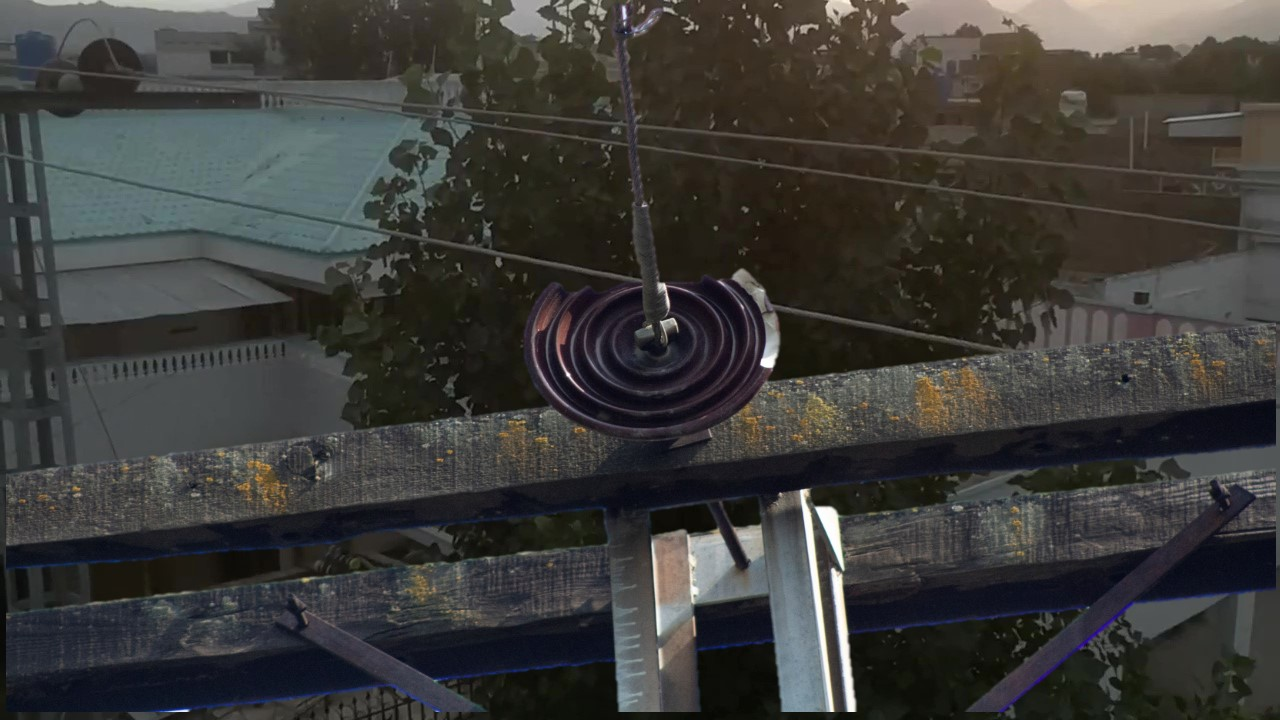defect_disc: (513, 247, 798, 435)
